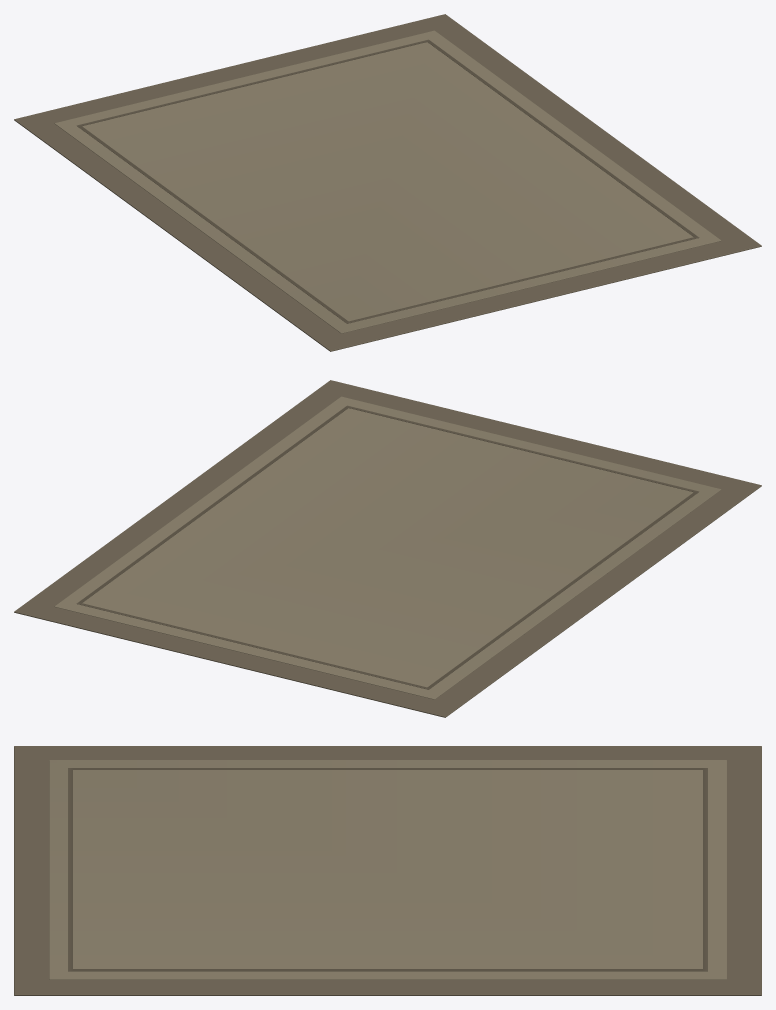
The model's file is courtyard_rug.gltf.
The picture shows the model from 3 angles, top to bottom: view 1: azimuth 30°, elevation 25°; view 2: azimuth 150°, elevation 25°; view 3: azimuth 270°, elevation 25°; orthographic projection. The views are drawn at different scales.
Visible parts, largest first — view 1: CourtyardRug_Body, CourtyardRug_Border, CourtyardRug_Stripe2, CourtyardRug_Stripe3, CourtyardRug_Stripe0, CourtyardRug_Stripe1; view 2: CourtyardRug_Body, CourtyardRug_Border, CourtyardRug_Stripe2, CourtyardRug_Stripe3, CourtyardRug_Stripe1, CourtyardRug_Stripe0; view 3: CourtyardRug_Body, CourtyardRug_Border, CourtyardRug_Stripe3, CourtyardRug_Stripe2, CourtyardRug_Stripe0, CourtyardRug_Stripe1.
Part boxes in pixels (x1=…): CourtyardRug_Body: x1=54, y1=30, x2=721, y2=333; CourtyardRug_Border: x1=14, y1=14, x2=761, y2=351; CourtyardRug_Stripe2: x1=78, y1=126, x2=348, y2=322; CourtyardRug_Stripe3: x1=427, y1=41, x2=696, y2=236; CourtyardRug_Stripe0: x1=345, y1=236, x2=699, y2=323; CourtyardRug_Stripe1: x1=76, y1=39, x2=430, y2=126; CourtyardRug_Body: x1=54, y1=396, x2=721, y2=699; CourtyardRug_Border: x1=14, y1=380, x2=761, y2=717; CourtyardRug_Stripe2: x1=427, y1=492, x2=697, y2=688; CourtyardRug_Stripe3: x1=79, y1=407, x2=348, y2=602; CourtyardRug_Stripe1: x1=76, y1=602, x2=430, y2=689; CourtyardRug_Stripe0: x1=345, y1=405, x2=699, y2=492; CourtyardRug_Body: x1=49, y1=760, x2=726, y2=979; CourtyardRug_Border: x1=14, y1=746, x2=761, y2=995; CourtyardRug_Stripe3: x1=73, y1=969, x2=702, y2=971; CourtyardRug_Stripe2: x1=73, y1=768, x2=702, y2=769; CourtyardRug_Stripe0: x1=68, y1=768, x2=72, y2=971; CourtyardRug_Stripe1: x1=703, y1=768, x2=707, y2=971.
Bounding box in the file's own units: 3.7 × 0.0158 × 4.7.
